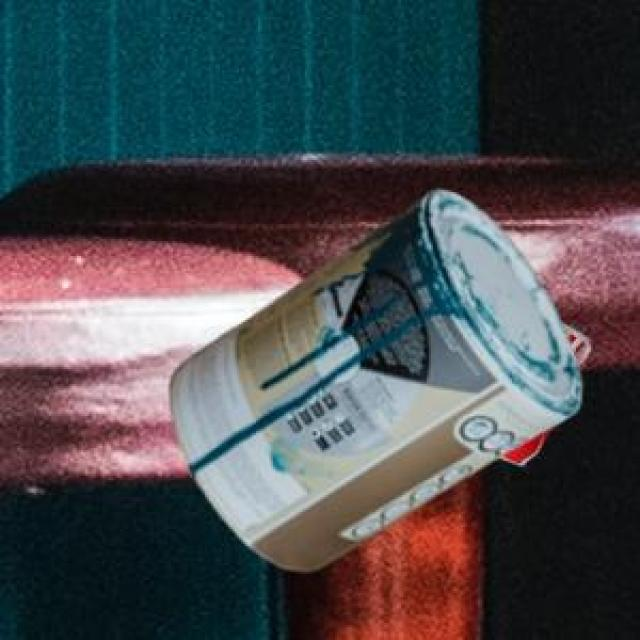Can: (167, 187, 579, 569), (527, 319, 588, 438), (498, 436, 534, 462)
